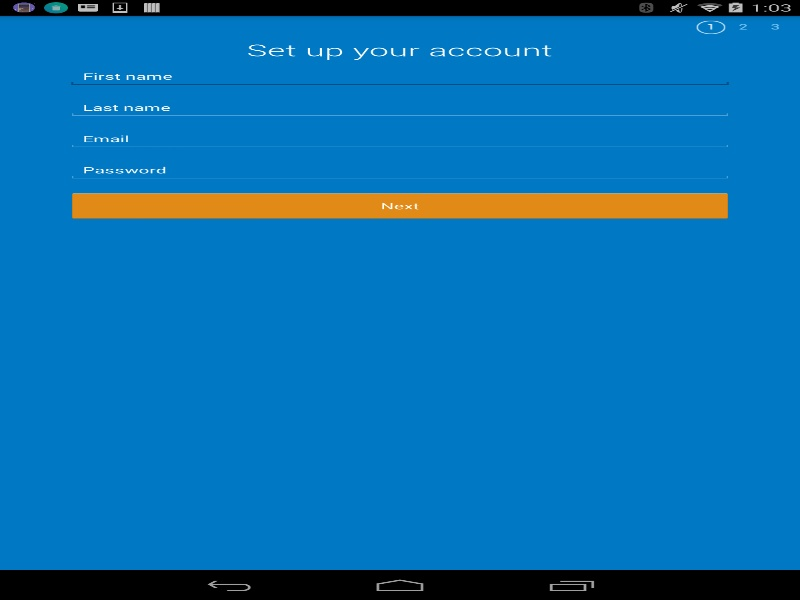Button: (66, 190, 733, 220)
Input: (66, 65, 733, 87), (66, 97, 733, 118), (66, 128, 733, 149), (66, 159, 733, 180)
